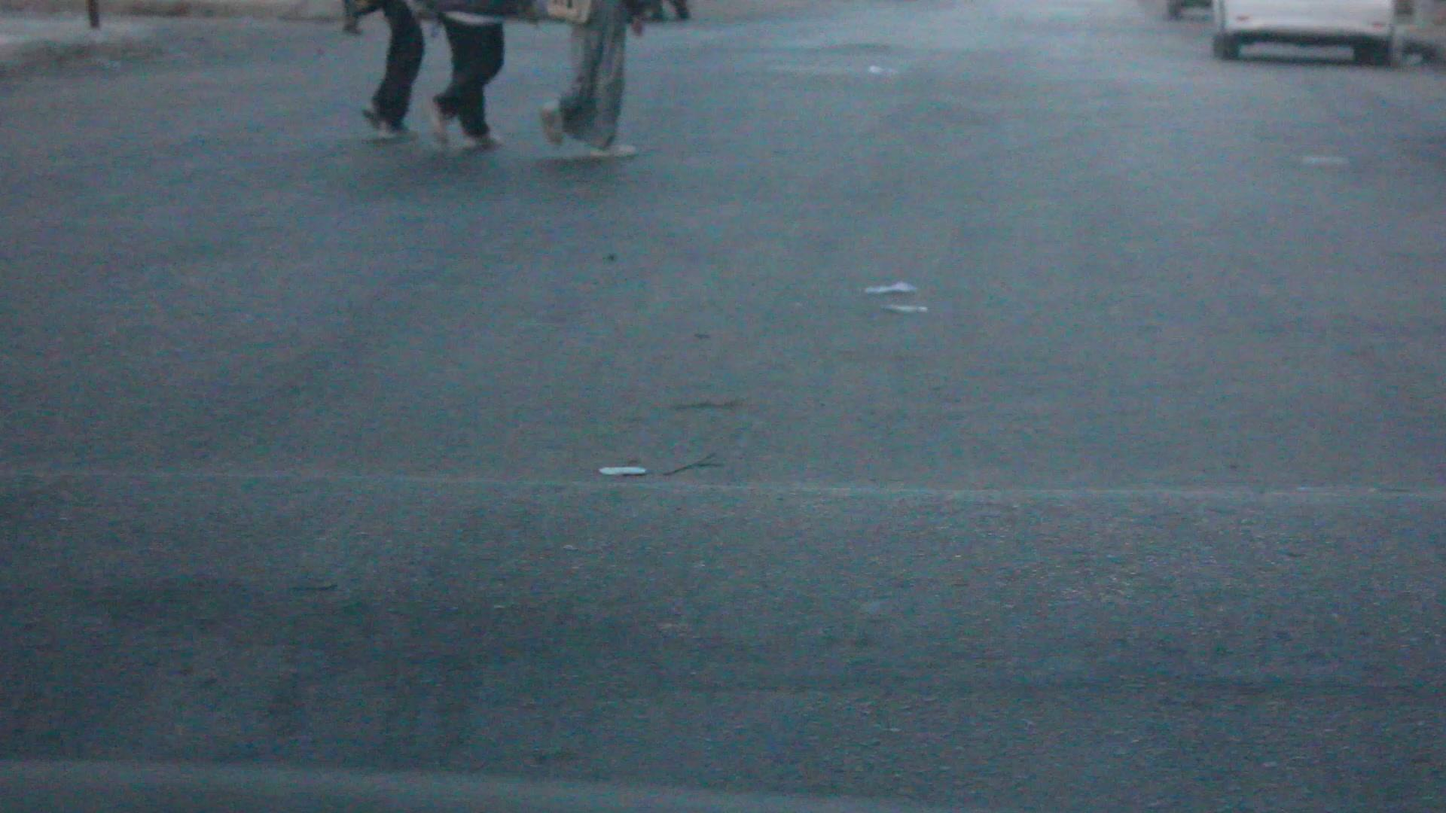Bump: (6, 470, 1445, 812)
